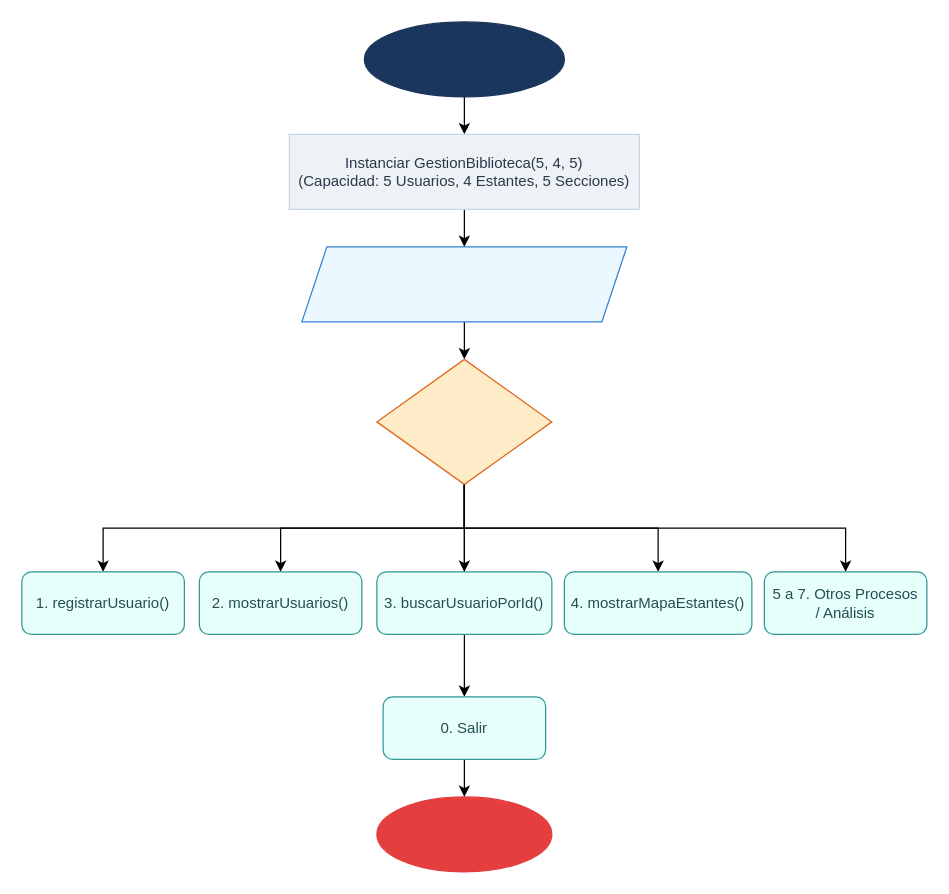
This 949x894 diagram has some shape labels left out. The shapes that lost their labels are listed below. From the top down, each one's centre as x and y in pixels, then its label:
(x=463, y=59): INICIO MAIN
(x=464, y=284): Desplegar Menú con JOptionPane (Opciones: 1-7, 0 para Salir)
(x=464, y=421): ¿Opción Seleccionada?
(x=464, y=834): FIN PROGRAMA
